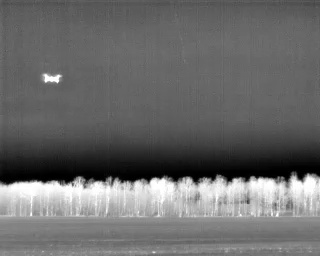DRONE: (39, 69, 65, 88)
